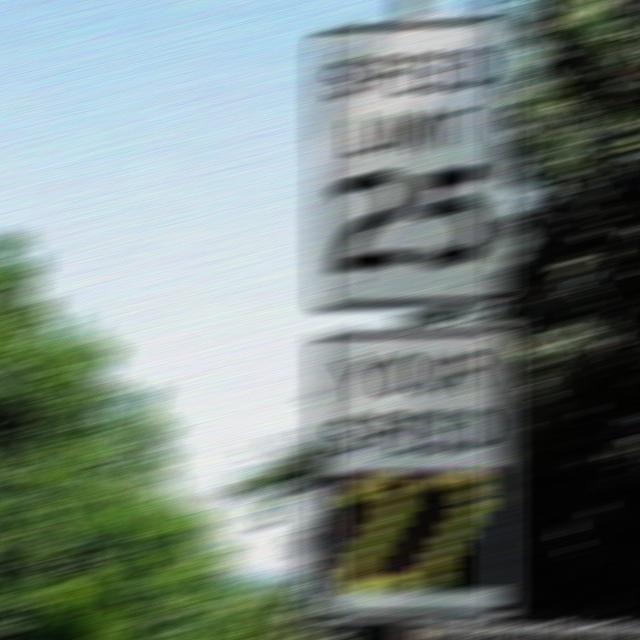speedLimit25: (307, 15, 514, 308)
